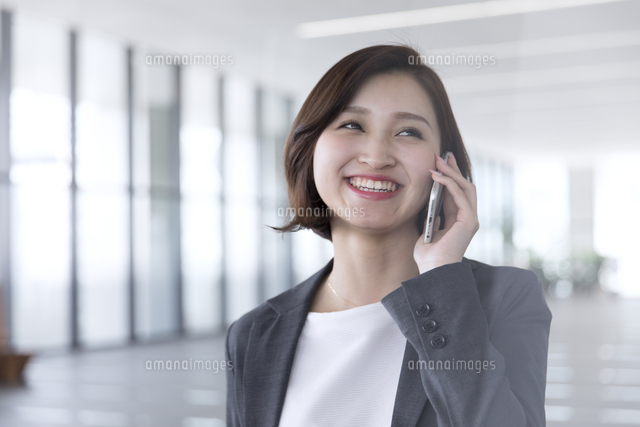phone: (418, 149, 483, 245)
talk: (312, 102, 491, 274)
